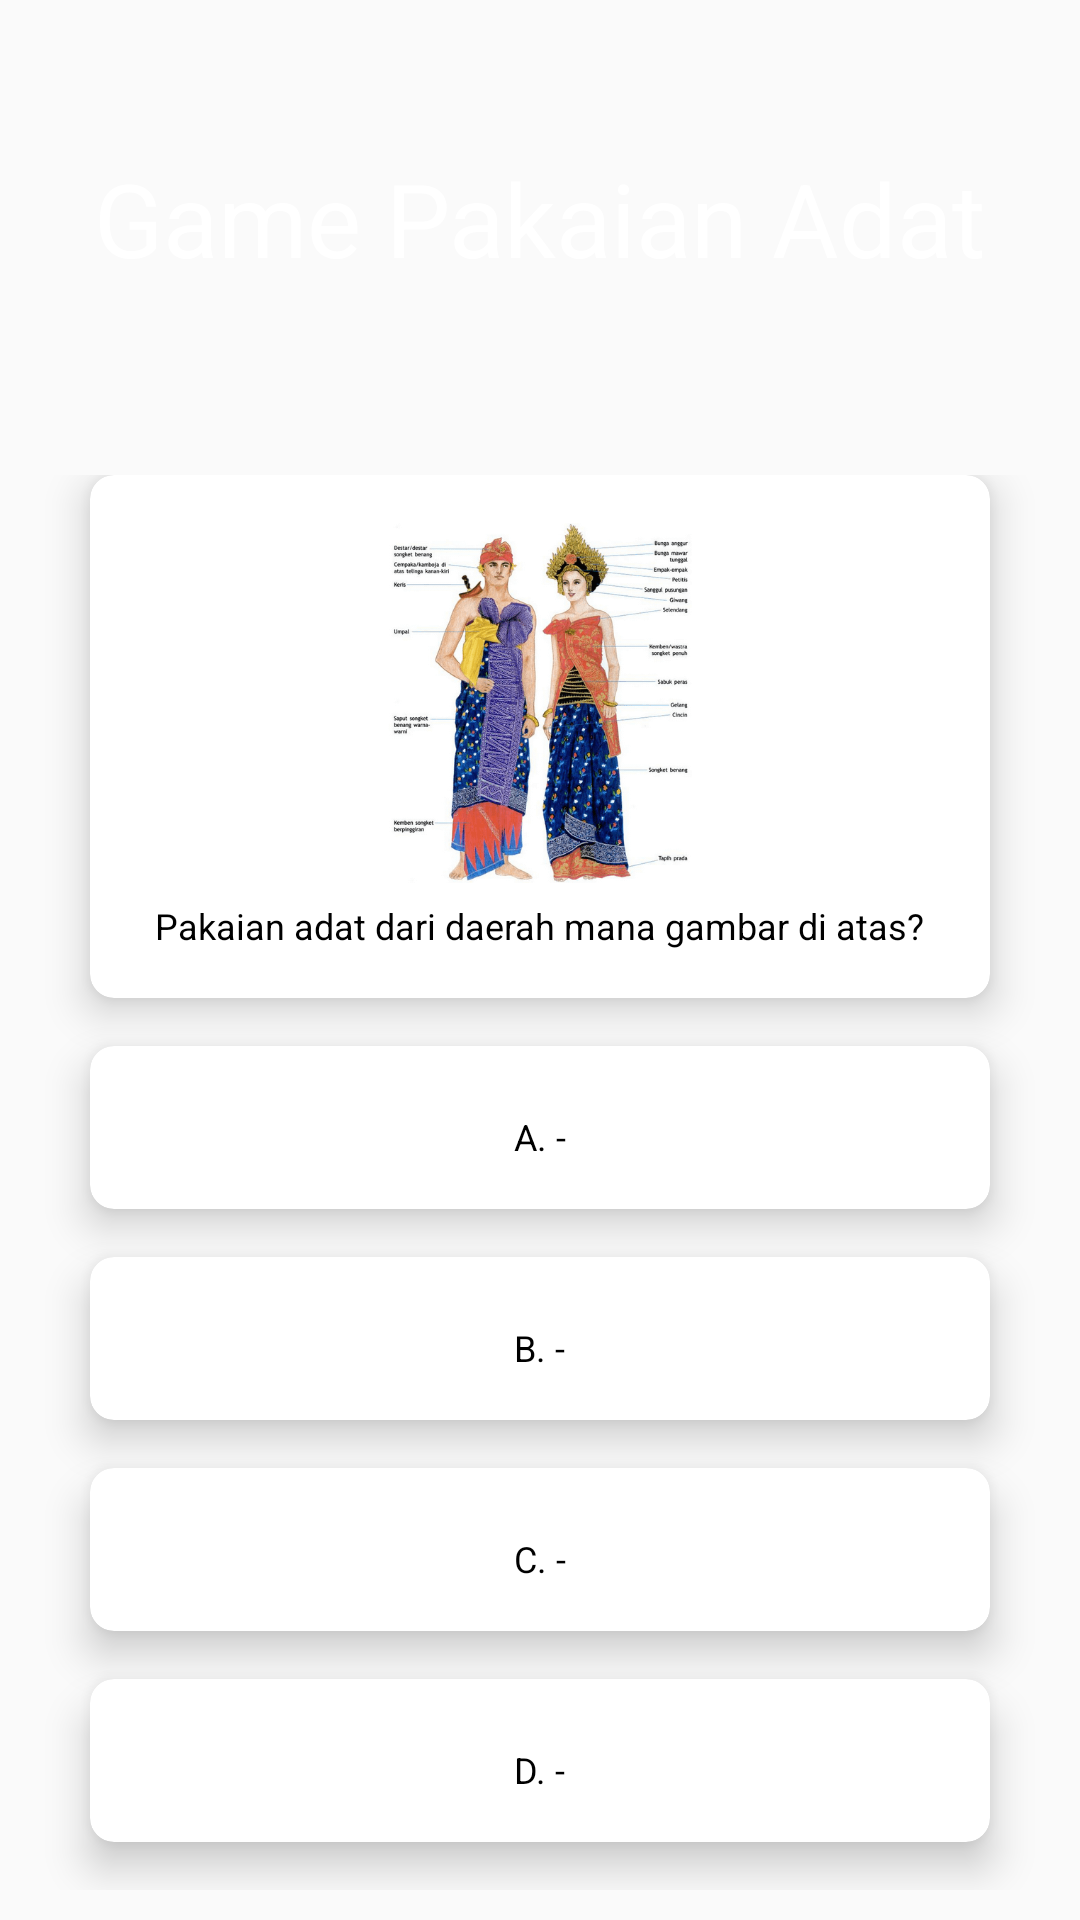

Icon bounding boxes for this 1080 × 1920 phone screenshot, format (x1, y1, x2, y2):
ilustrasi: (393, 524, 688, 882)
